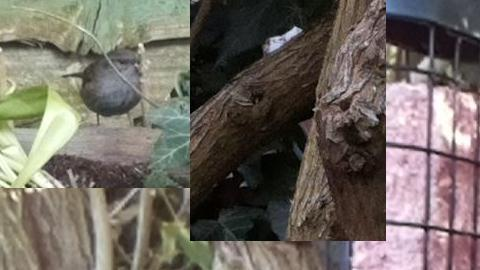sparrow: (61, 50, 140, 126)
